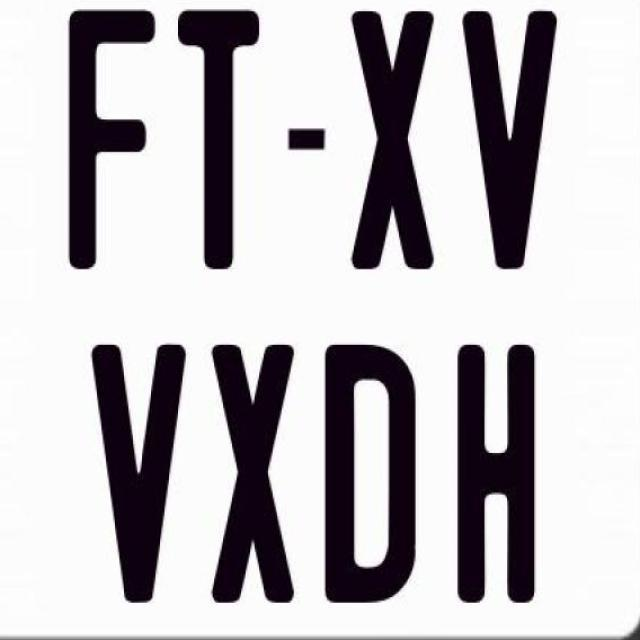license-plate: (12, 14, 620, 640)
